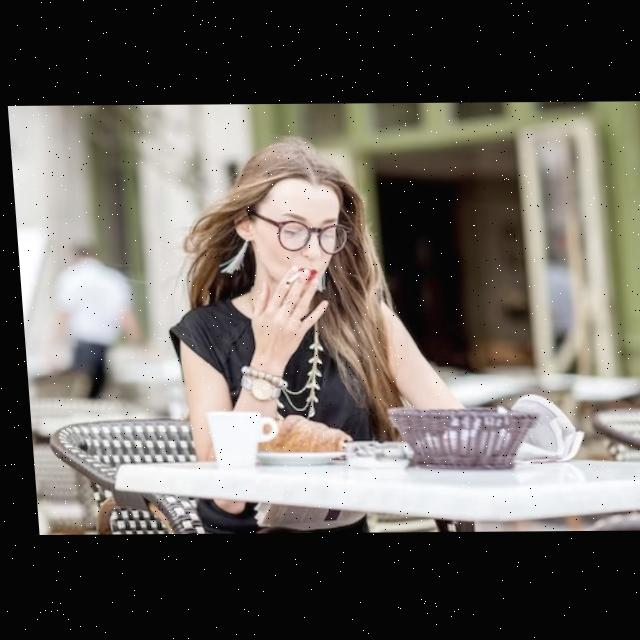cigarette: (281, 271, 300, 285)
